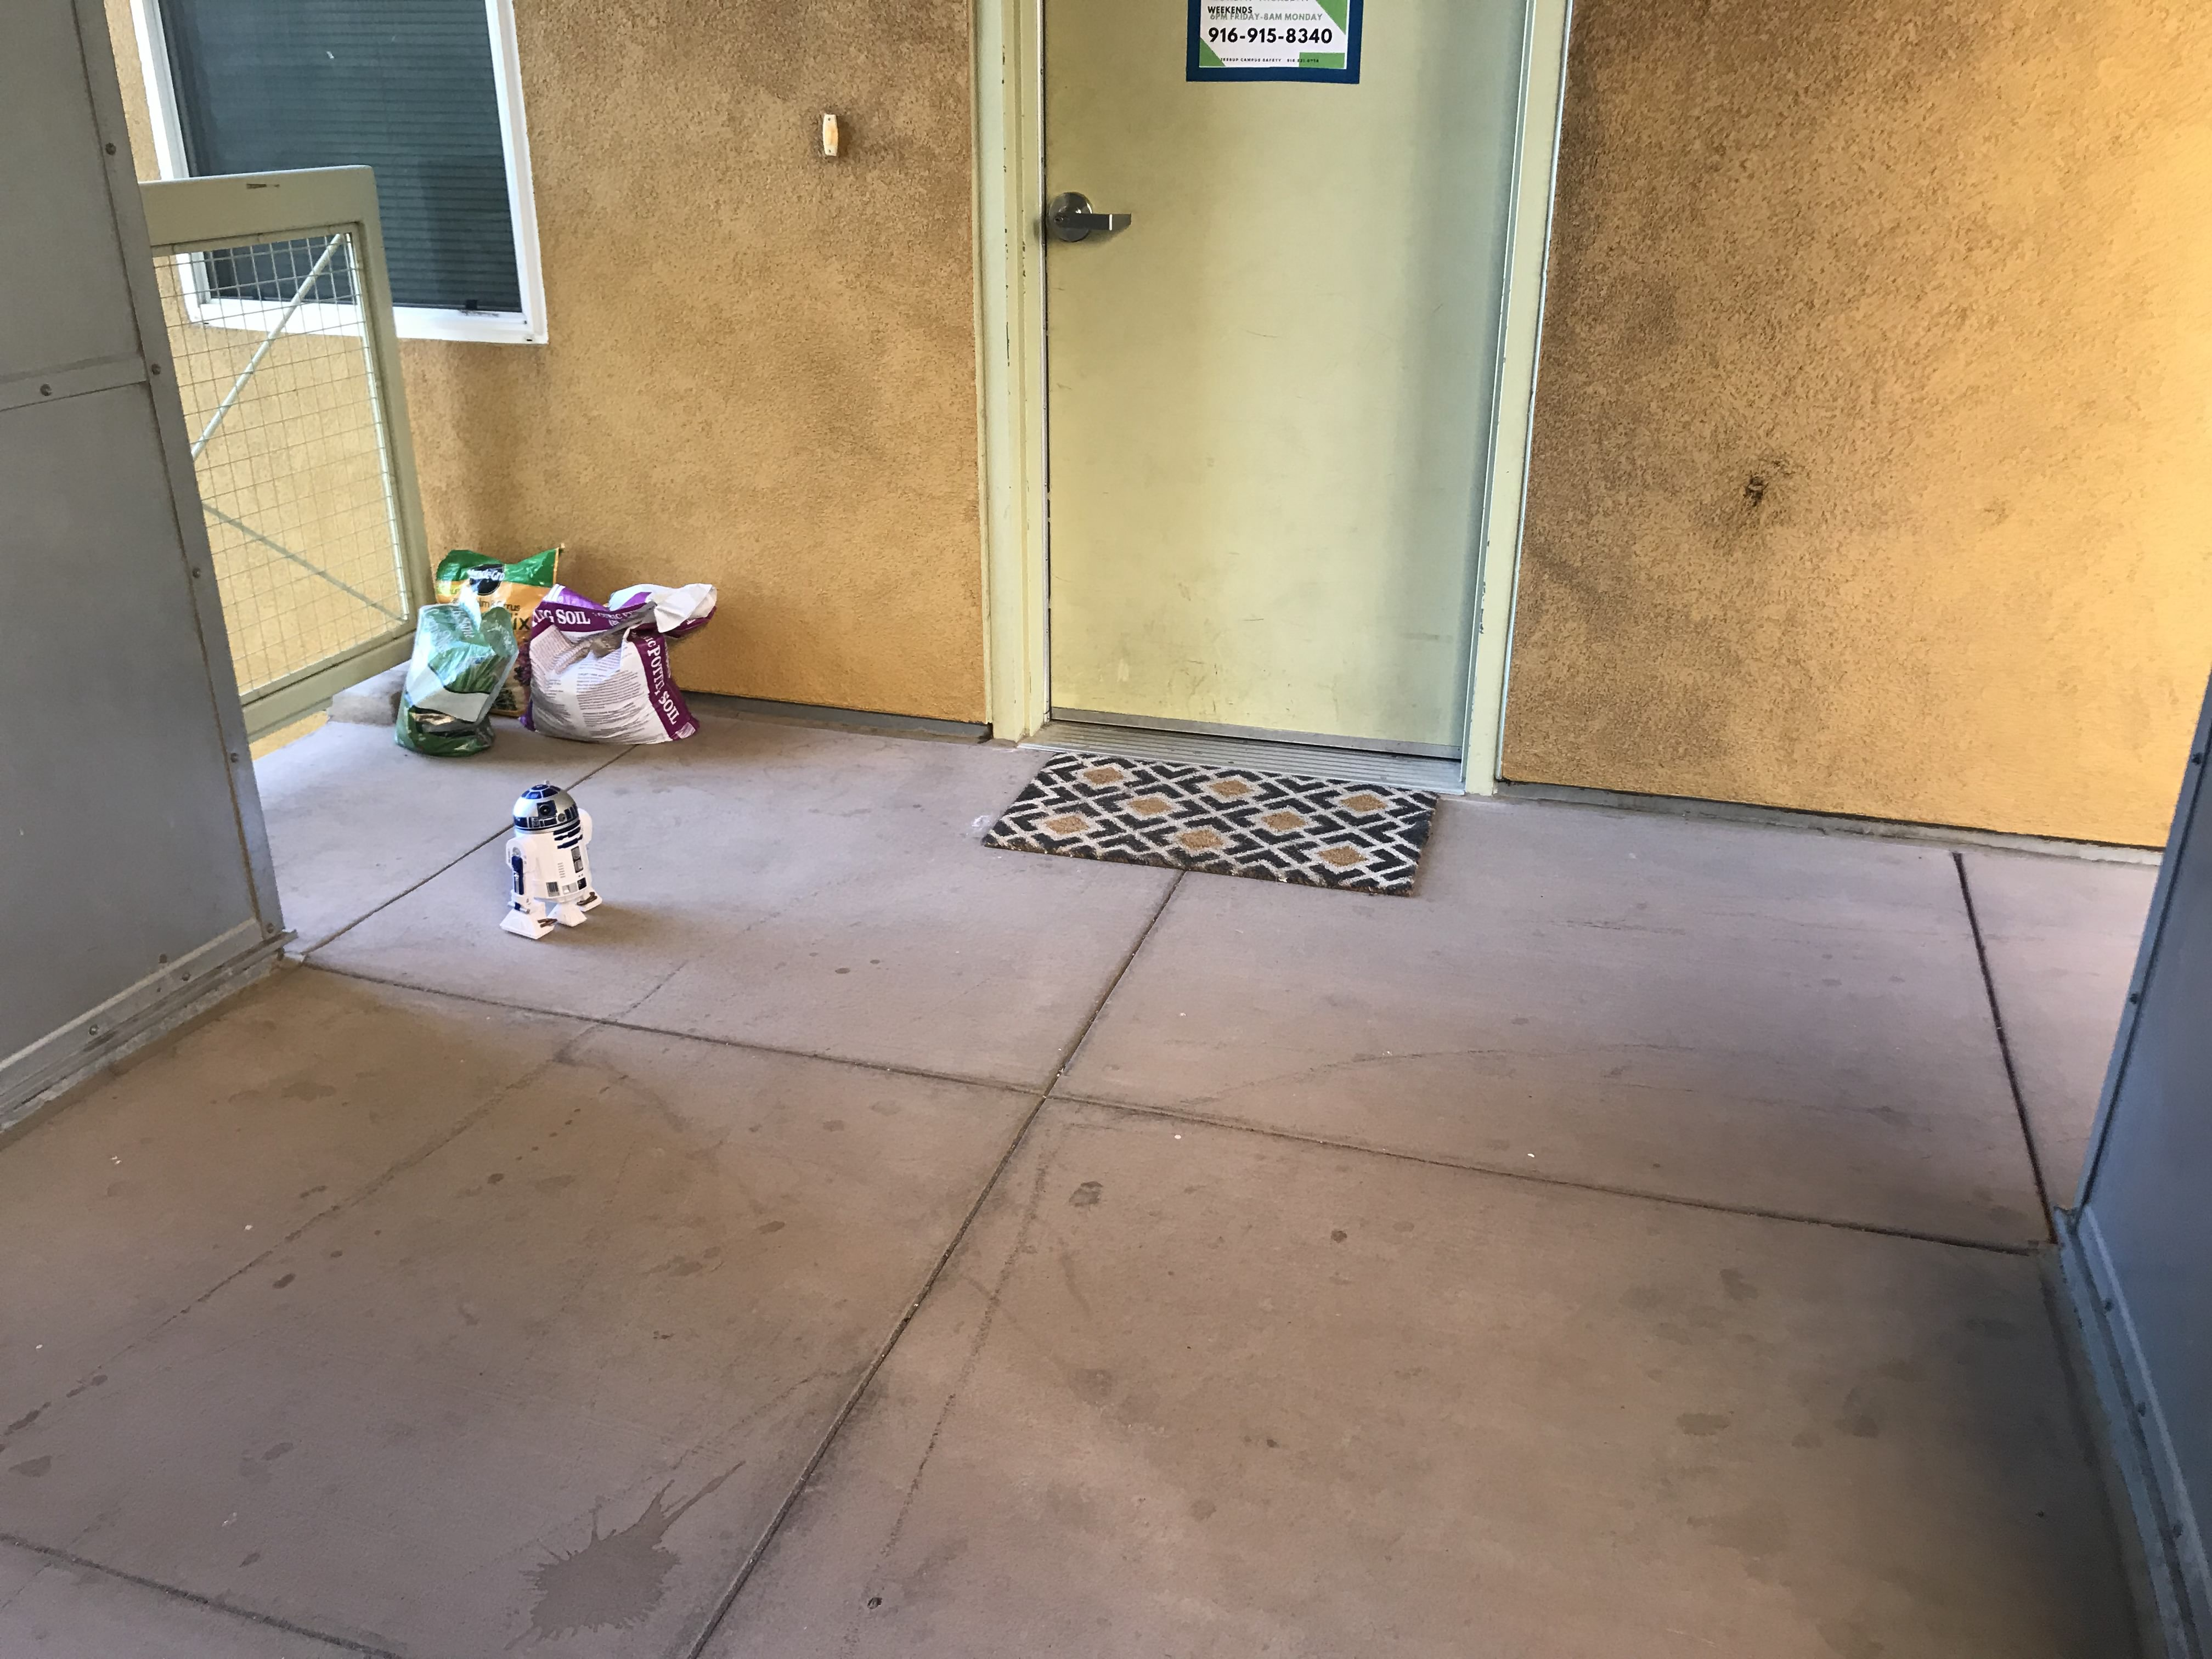r2d2: (500, 779, 599, 943)
